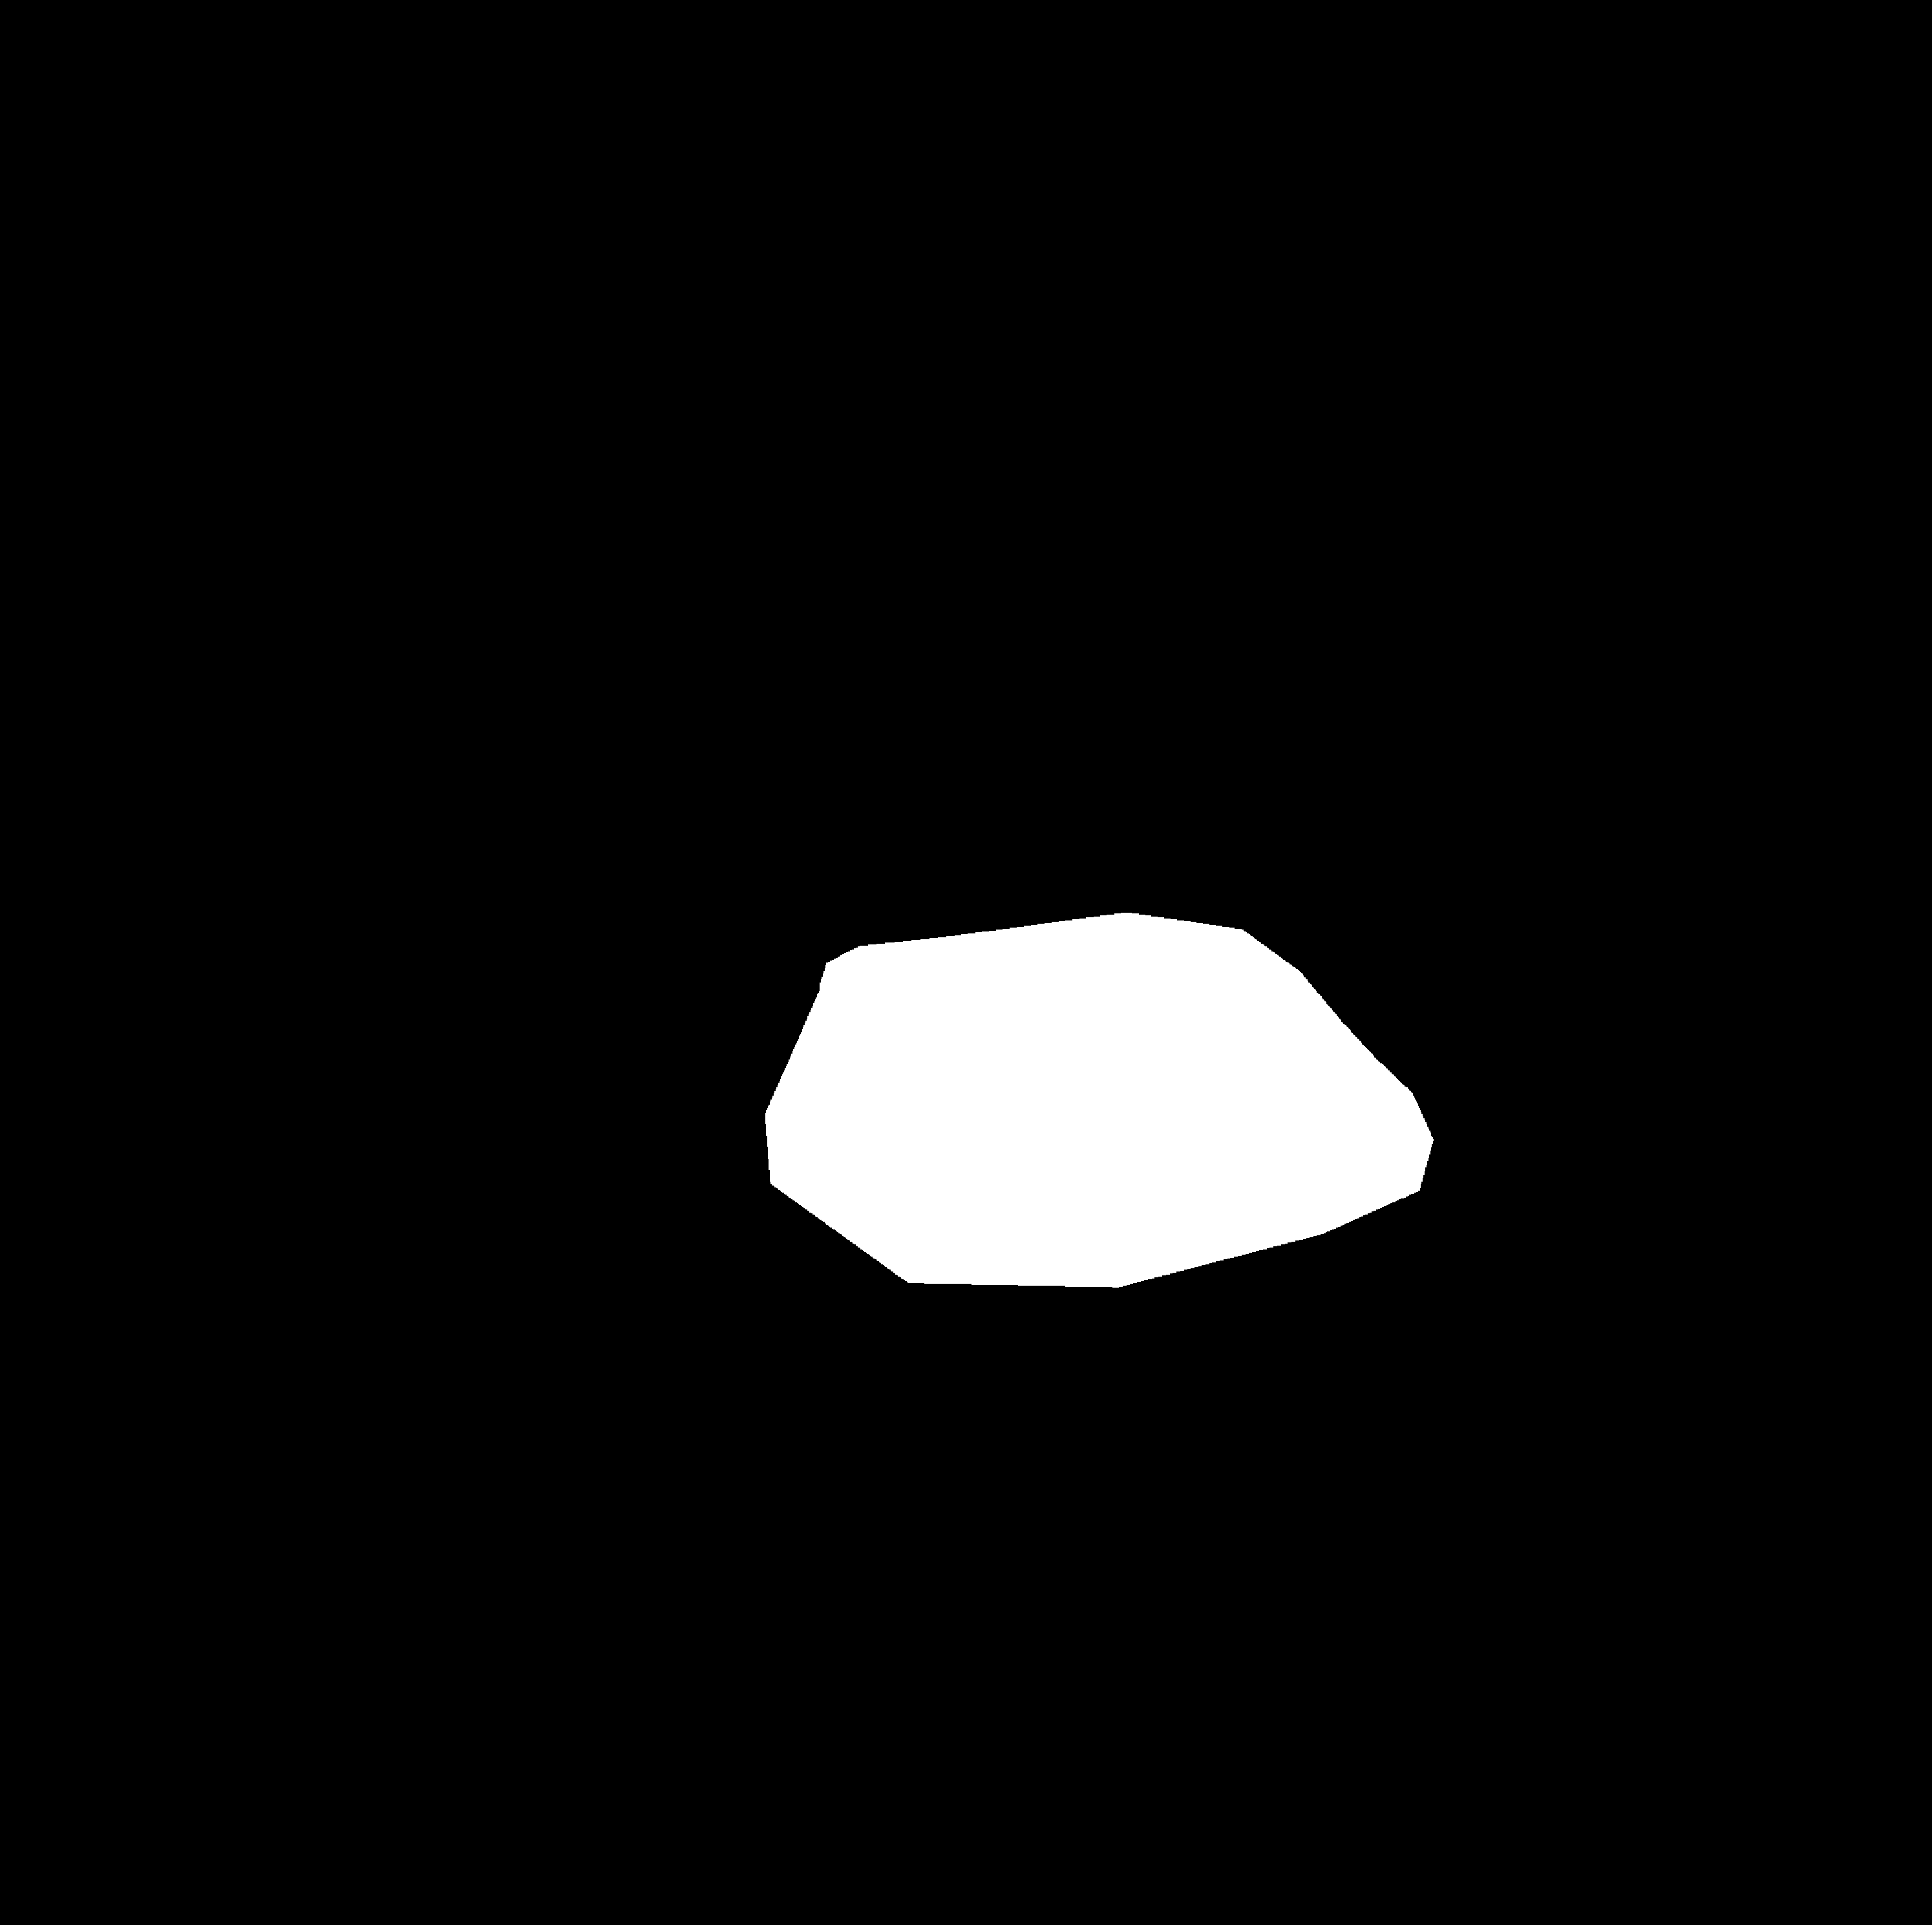heart: (763, 954, 1460, 1296)
left_lung: (301, 448, 888, 1243)
right_lung: (1010, 451, 1597, 1252)
